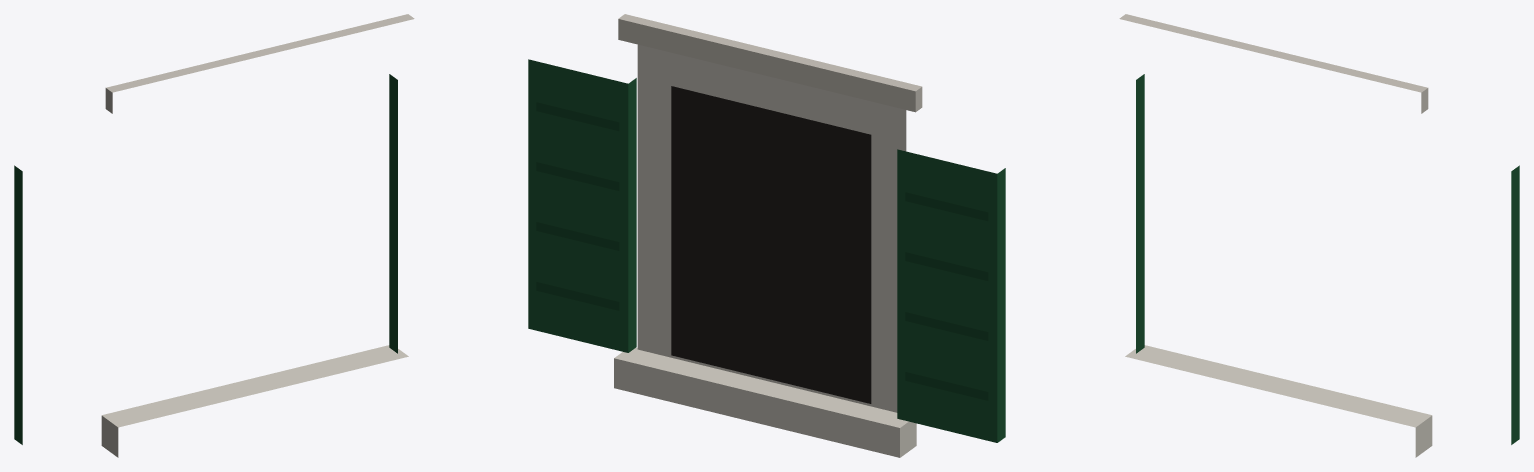
File: window_shutter_green.glb
The picture shows the model from 3 angles, left to right: view 1: azimuth 30°, elevation 25°; view 2: azimuth 150°, elevation 25°; view 3: azimuth 330°, elevation 25°; orthographic projection.
Visible parts, largest first — view 1: window_shutter_green; view 2: window_shutter_green; view 3: window_shutter_green.
Boxes of the visible parts, <box> form: window_shutter_green: <box>14,14,414,457</box>; window_shutter_green: <box>528,14,1005,457</box>; window_shutter_green: <box>1119,14,1519,457</box>.
Size of the model in its own units: 1.64 by 1.21 by 0.1.
